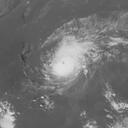cyclone: (39, 16, 108, 93)
